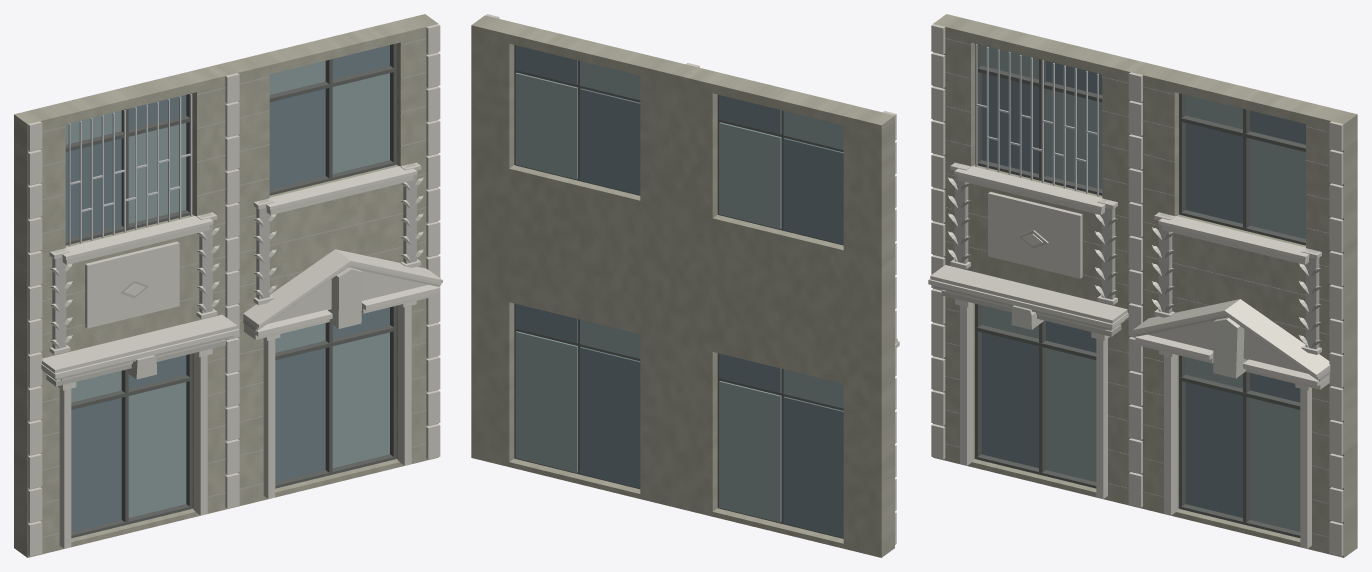
File: hongkong-117-pedimented-windows-far.glb
The picture shows the model from 3 angles, left to right: view 1: azimuth 30°, elevation 25°; view 2: azimuth 150°, elevation 25°; view 3: azimuth 330°, elevation 25°; orthographic projection.
Visible parts, largest first — view 1: 香港路117号键石窗楣与三角窗山花; view 2: 香港路117号键石窗楣与三角窗山花; view 3: 香港路117号键石窗楣与三角窗山花.
Part boxes in pixels (x1,y1,x2,y2): 香港路117号键石窗楣与三角窗山花: (14, 14, 442, 557); 香港路117号键石窗楣与三角窗山花: (471, 14, 899, 557); 香港路117号键石窗楣与三角窗山花: (928, 14, 1357, 557).
Size of the model in its own units: 5.06 by 5.1 by 0.634.
Materials: 12 (1 with a texture image).
